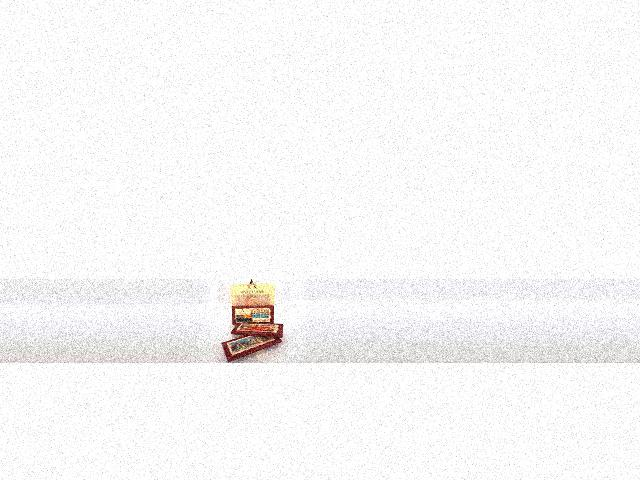chocolate: (209, 331, 284, 366)
